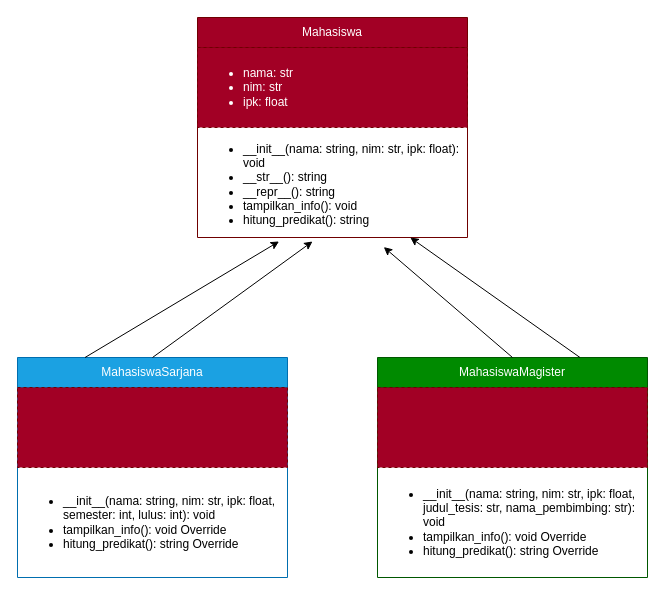
The diagram is 665 pixels wide and 595 high, and some of its shapes have lost their labels. Each missing label, with the centre of its shape:
"judul_tesis: str nama_pembimbing: str" belongs at (x=512, y=427).
"semester: int lulus int" belongs at (x=152, y=427).
